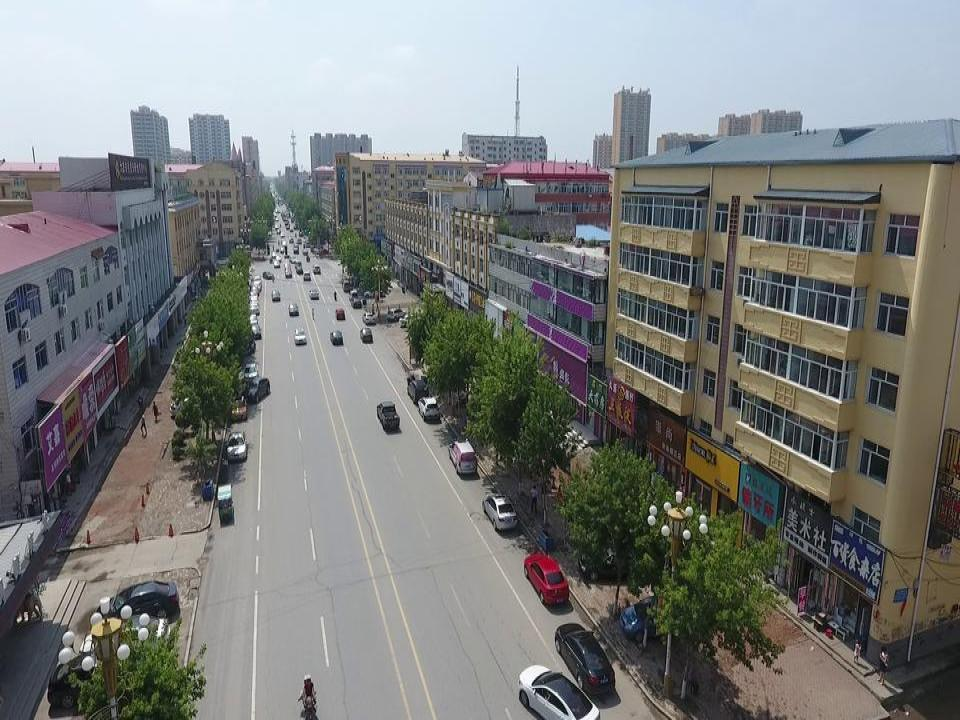car: (48, 652, 152, 708), (518, 664, 600, 720), (554, 622, 615, 694), (95, 580, 181, 621), (620, 593, 683, 640), (523, 552, 570, 604), (579, 542, 640, 582), (481, 490, 518, 530), (242, 377, 270, 402), (169, 395, 199, 416), (226, 431, 247, 460), (419, 396, 440, 421), (231, 395, 247, 420), (386, 308, 407, 323), (399, 313, 419, 327), (293, 328, 308, 344), (245, 363, 258, 380), (359, 328, 372, 343), (330, 329, 343, 344), (249, 324, 261, 339), (361, 312, 375, 324), (363, 288, 380, 297), (335, 307, 346, 320), (288, 302, 299, 314), (351, 296, 361, 309), (309, 286, 319, 298), (247, 314, 257, 326), (247, 303, 259, 313), (271, 289, 281, 300), (249, 285, 258, 296), (217, 258, 229, 266), (248, 298, 259, 306), (312, 264, 321, 273), (263, 270, 273, 278), (284, 268, 292, 277), (247, 295, 257, 302), (303, 271, 310, 280), (296, 266, 303, 274), (284, 263, 291, 269), (273, 260, 279, 267), (284, 250, 289, 258), (293, 247, 299, 253), (288, 236, 293, 243), (305, 240, 310, 247), (276, 255, 281, 261), (288, 227, 294, 232), (276, 227, 281, 233), (297, 239, 302, 244), (280, 232, 285, 237), (272, 252, 276, 257), (282, 240, 286, 245), (280, 247, 284, 252), (302, 250, 308, 253), (275, 248, 279, 252)
truck: (376, 401, 399, 428), (241, 334, 256, 354)
van: (448, 437, 477, 475), (407, 377, 429, 403), (349, 289, 358, 302), (343, 279, 351, 292), (253, 274, 261, 286), (252, 281, 261, 291), (294, 260, 302, 269), (288, 256, 297, 264), (293, 243, 299, 250)
